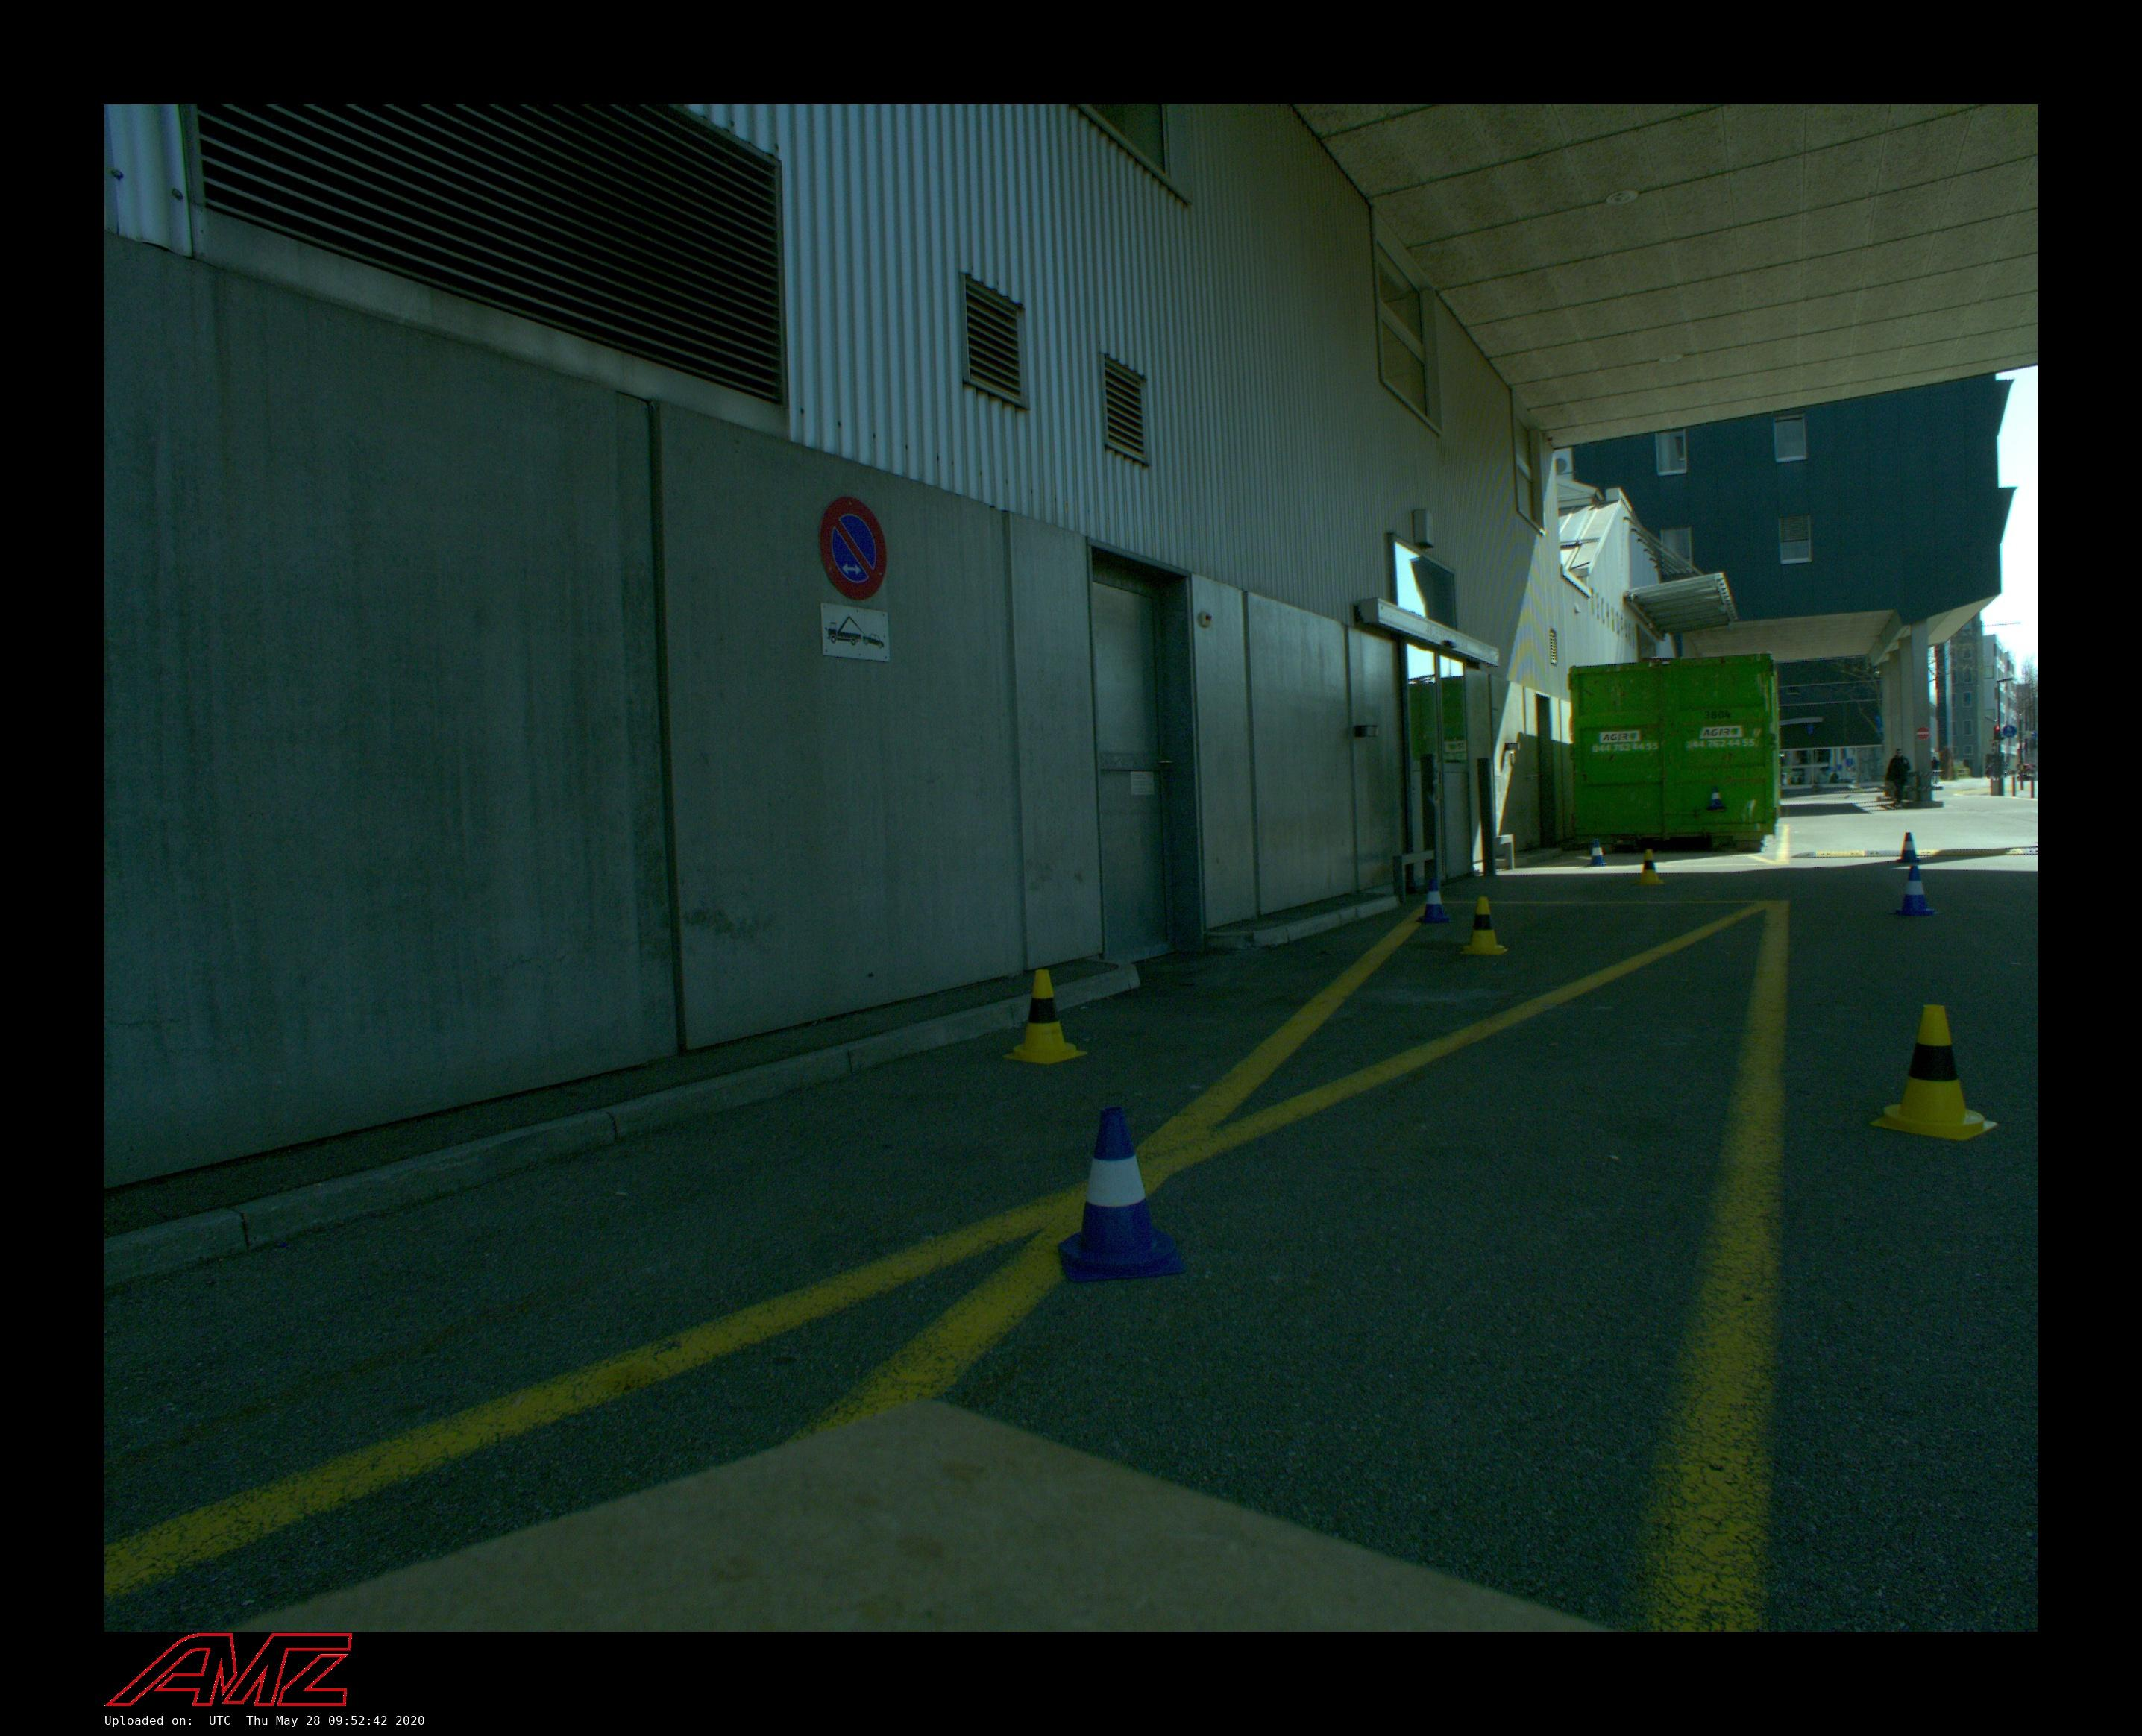blue_cone: (1059, 1109, 1185, 1281), (1894, 864, 1935, 916), (1417, 877, 1451, 925), (1896, 833, 1921, 863), (1586, 840, 1607, 866)
yellow_cone: (1873, 1004, 1998, 1141), (1003, 969, 1088, 1063), (1460, 896, 1508, 957), (1637, 849, 1664, 886)
